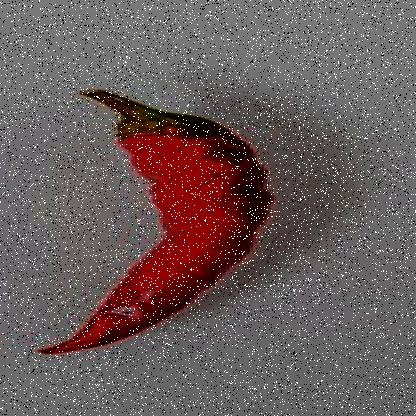chili: (31, 89, 364, 356)
